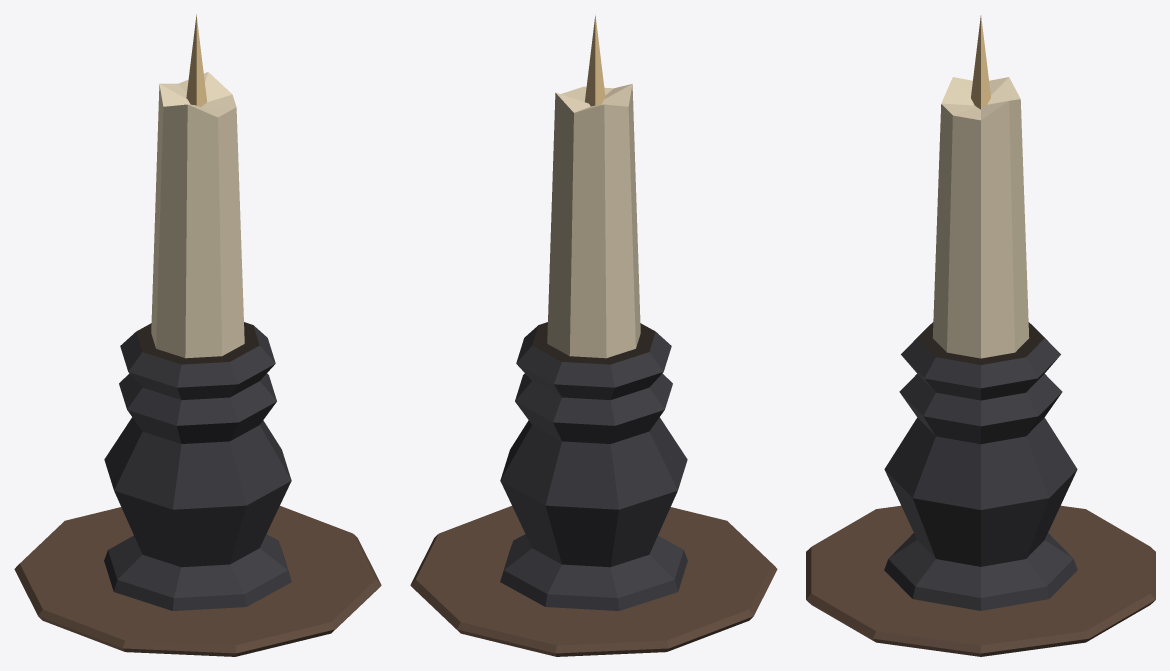
The model's file is CandleStick_1.fbx.
3 renders of one model, left to right at view 1: azimuth 30°, elevation 25°; view 2: azimuth 150°, elevation 25°; view 3: azimuth 270°, elevation 25°, orthographic.
Parts seen in each view (by area): view 1: pCylinder277; view 2: pCylinder277; view 3: pCylinder277.
Boxes of the visible parts, x1=… form: pCylinder277: x1=14, y1=14, x2=381, y2=656; pCylinder277: x1=410, y1=14, x2=777, y2=656; pCylinder277: x1=806, y1=15, x2=1155, y2=656.
Bounding box in the file's own units: 27.12 × 47.9 × 25.79.
